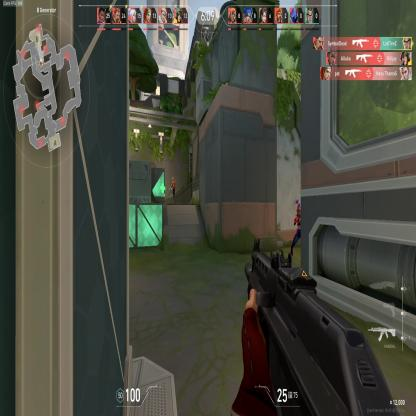enemy: (290, 197, 301, 255), (171, 176, 176, 201)
